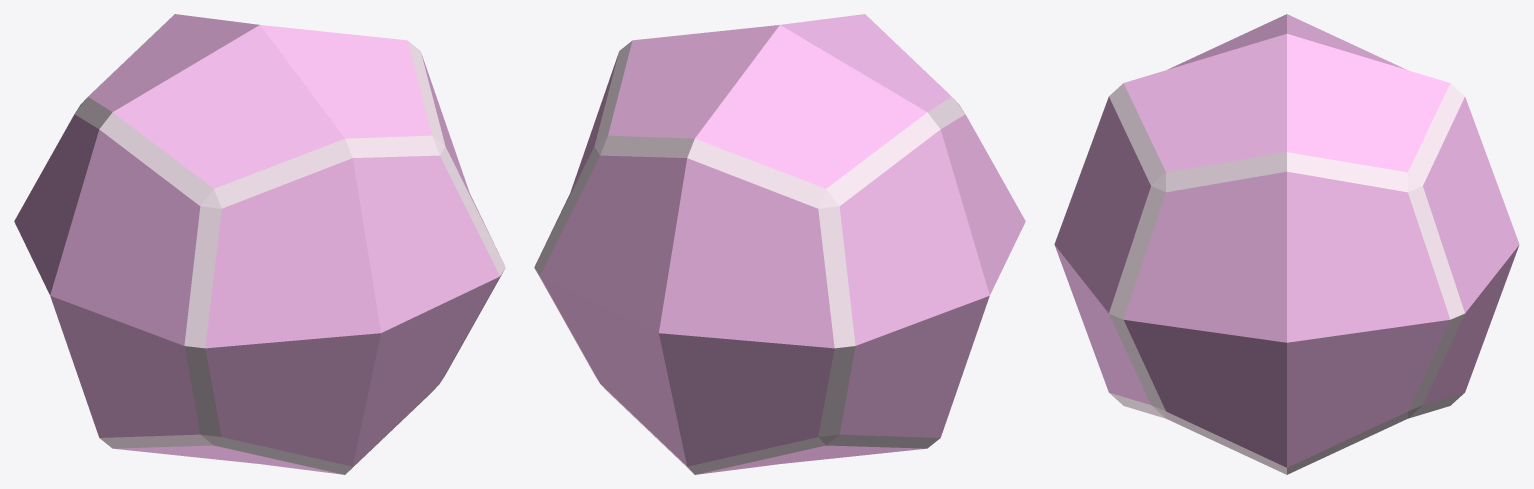
The model's file is coleccionable.fbx.
The picture shows the model from 3 angles, left to right: view 1: azimuth 30°, elevation 25°; view 2: azimuth 150°, elevation 25°; view 3: azimuth 270°, elevation 25°; orthographic projection. The views are drawn at different scales.
Visible parts, largest first — view 1: Box001; view 2: Box001; view 3: Box001.
Boxes of the visible parts, x1,y1,x2,y2 form: Box001: (14,14,505,474); Box001: (534,14,1025,474); Box001: (1054,14,1519,474).
Size of the model in its own units: 200 by 200 by 200.
